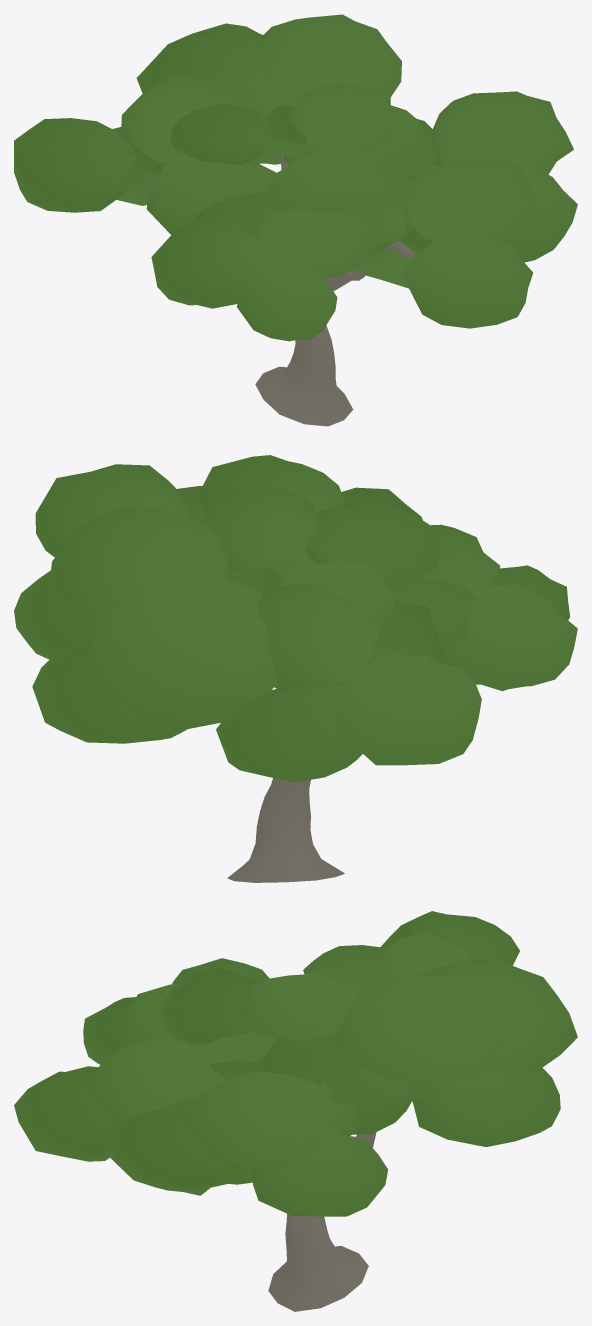
The model's file is Blender_GarryOak_1.glb.
3 renders of one model, top to bottom at view 1: azimuth 30°, elevation 25°; view 2: azimuth 150°, elevation 25°; view 3: azimuth 270°, elevation 25°, orthographic. The views are drawn at different scales.
Parts seen in each view (by area): view 1: Blender_GarryOak_1; view 2: Blender_GarryOak_1; view 3: Blender_GarryOak_1.
Part boxes in pixels (x1,y1,x2,y2): Blender_GarryOak_1: (14, 14, 577, 426); Blender_GarryOak_1: (14, 455, 577, 882); Blender_GarryOak_1: (14, 911, 577, 1311).
Bounding box in the file's own units: 20.62 × 14.51 × 21.62.
